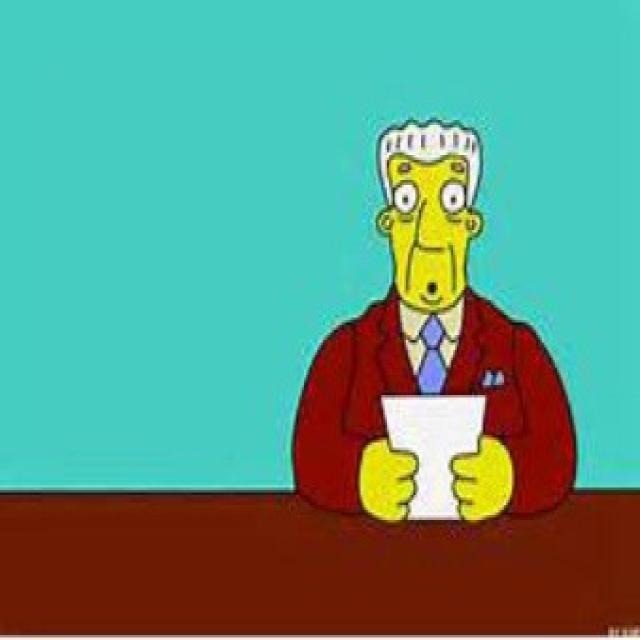Kent Brockman: (369, 114, 481, 311)
